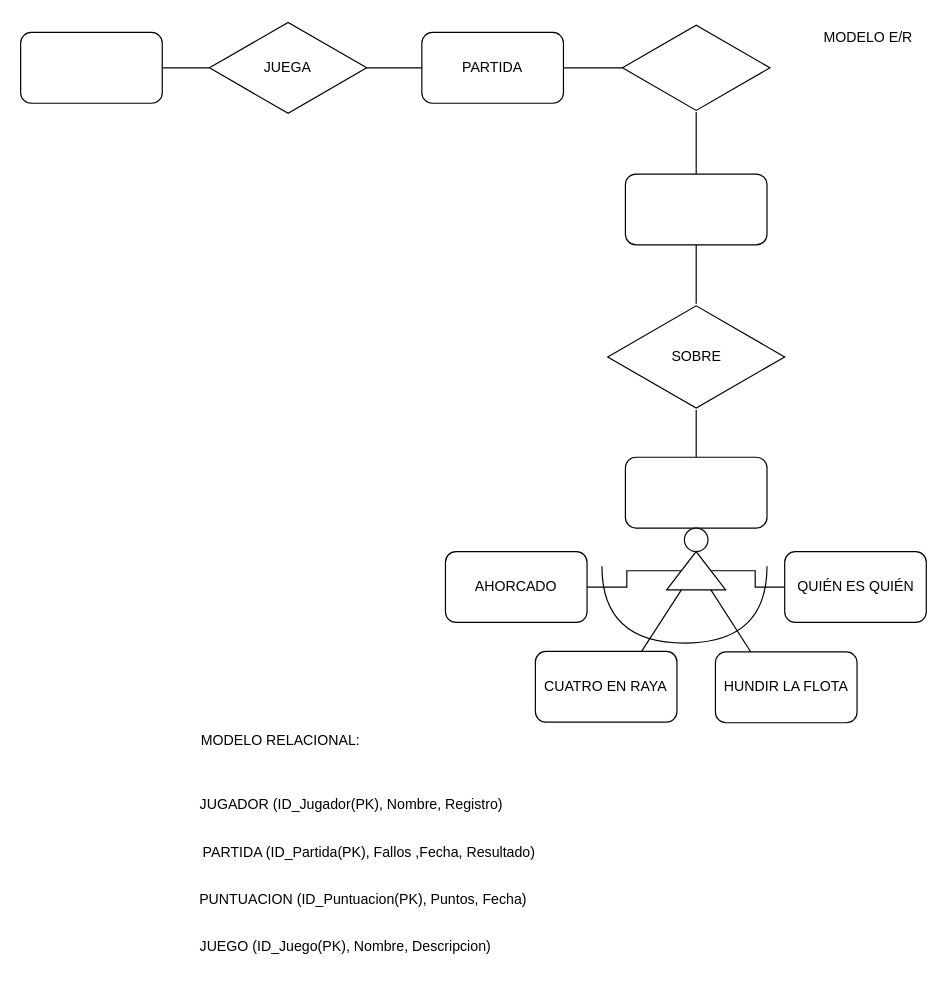
Some shapes in this 948 by 985 pixel diagram are drawn without their labels. The shapes that lost their labels are listed below. From the top down, each one's box as (x1, y1, x2, y2) in pixels, then its label:
(19, 31, 162, 103): JUGADOR
(621, 22, 770, 112): TIENE
(624, 173, 767, 245): PUNTUACIÓN
(624, 456, 767, 528): JUEGO
